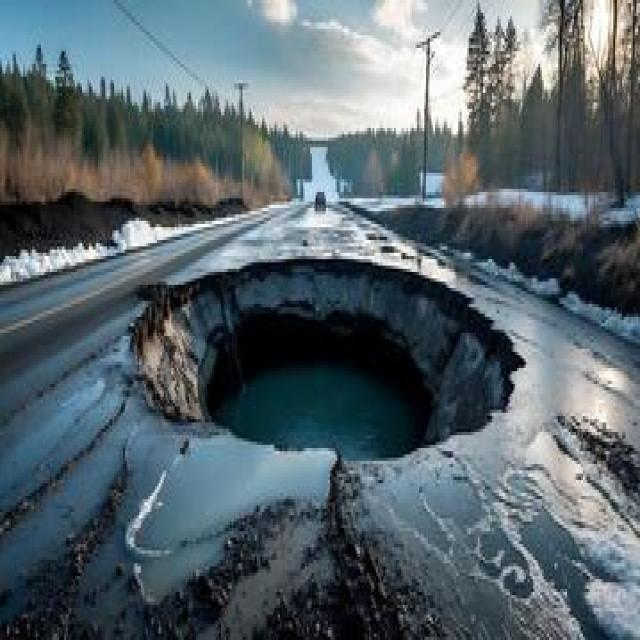road collapse: (82, 155, 640, 538)
